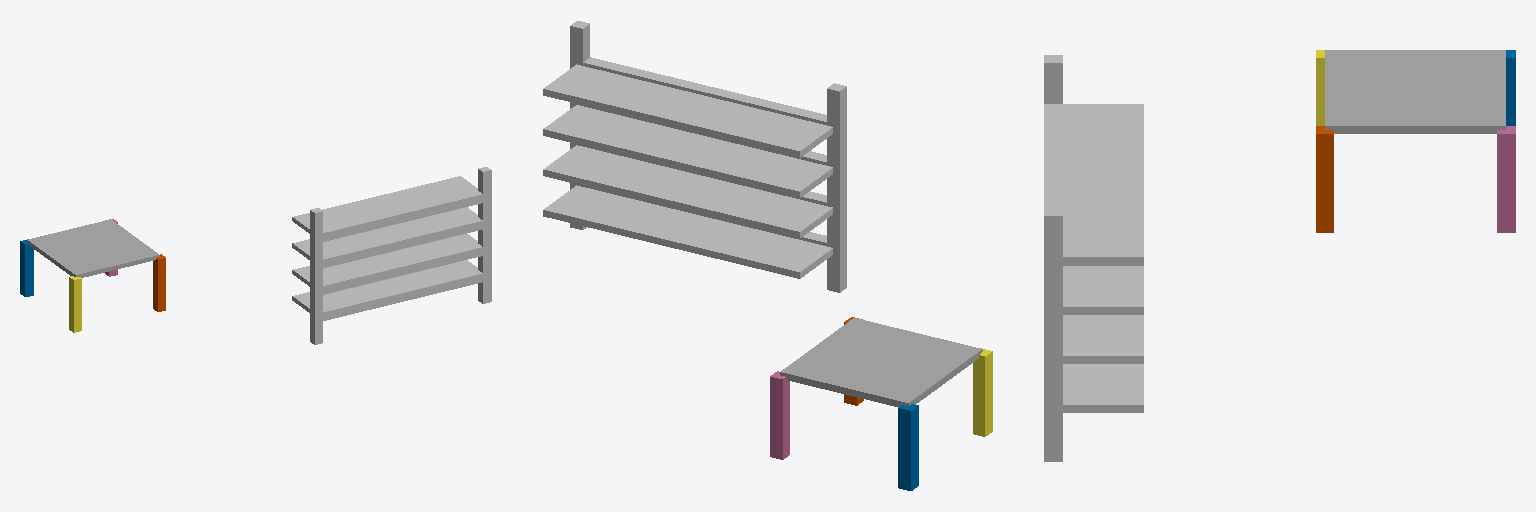
robot.urdf — shelve:
<?xml version="1.0"?>
<robot name="shelve">
    
    <material name="grey">
        <color rgba="0.8 0.8 0.8 1"/>
    </material>

    <link name="shelf_origin"/>

    <link name="left_leg">
        <visual>
            <material name="grey"/>
            <origin xyz="0 0 0.75"/>
            <geometry>
                <box size="0.1 0.1 1.5"/>
            </geometry>
        </visual>
        <collision>
            <origin xyz="0 0 0.75"/>
            <geometry>
                <box size="0.1 0.1 1.5"/>
            </geometry>
        </collision>
    </link>

    <link name="right_leg">
        <visual>
            <geometry>
                <box size="0.1 0.1 1.5"/>
            </geometry>
            <origin xyz="0 0 0.75"/>
            <material name="grey"/>

        </visual>
        <collision>
            <origin xyz="0 0 0.75"/>
            <geometry>
                <box size="0.1 0.1 1.5"/>
            </geometry>
        </collision>
    </link>

    <link name="bar0">
        <visual>
            <material name="grey"/>
            <origin xyz="-1 0 0"/>
            <geometry>
                <box size="2 0.1 0.1"/>
            </geometry>
        </visual>
        <collision>
            <origin xyz="-1 0 0"/>
            <geometry>
                <box size="2 0.1 0.1"/>
            </geometry>
        </collision>
    </link>

    <link name="board0">
        <visual>
            <material name="grey"/>
            <origin xyz="0 0.25 0"/>
            <geometry>
                <box size="2 0.5 0.05"/>
            </geometry>
        </visual>
        <collision>
            <origin xyz="0 0.25 0"/>
            <geometry>
                <box size="2 0.5 0.05"/>
            </geometry>
        </collision>
    </link>

    <link name="bar1">
        <visual>
            <material name="grey"/>
            <origin xyz="-1 0 0"/>
            <geometry>
                <box size="2 0.1 0.1"/>
            </geometry>
        </visual>
        <collision>
            <origin xyz="-1 0 0"/>
            <geometry>
                <box size="2 0.1 0.1"/>
            </geometry>
        </collision>
    </link>

    <link name="board1">
        <visual>
            <material name="grey"/>
            <origin xyz="0 0.25 0"/>
            <geometry>
                <box size="2 0.5 0.05"/>
            </geometry>
        </visual>
        <collision>
            <origin xyz="0 0.25 0"/>
            <geometry>
                <box size="2 0.5 0.05"/>
            </geometry>
        </collision>
    </link>

    <link name="bar2">
        <visual>
            <material name="grey"/>
            <origin xyz="-1 0 0"/>
            <geometry>
                <box size="2 0.1 0.1"/>
            </geometry>
        </visual>
        <collision>
            <origin xyz="-1 0 0"/>
            <geometry>
                <box size="2 0.1 0.1"/>
            </geometry>
        </collision>
    </link>

    <link name="board2">
        <visual>
            <material name="grey"/>
            <origin xyz="0 0.25 0"/>
            <geometry>
                <box size="2 0.5 0.05"/>
            </geometry>
        </visual>
        <collision>
            <origin xyz="0 0.25 0"/>
            <geometry>
                <box size="2 0.5 0.05"/>
            </geometry>
        </collision>
    </link>

    <link name="bar3">
        <visual>
            <material name="grey"/>
            <origin xyz="-1 0 0"/>
            <geometry>
                <box size="2 0.1 0.1"/>
            </geometry>
        </visual>
        <collision>
            <origin xyz="-1 0 0"/>
            <geometry>
                <box size="2 0.1 0.1"/>
            </geometry>
        </collision>
    </link>

    <link name="board3">
        <visual>
            <material name="grey"/>
            <origin xyz="0 0.25 0"/>
            <geometry>
                <box size="2 0.5 0.05"/>
            </geometry>
        </visual>
        <collision>
            <origin xyz="0 0.25 0"/>
            <geometry>
                <box size="2 0.5 0.05"/>
            </geometry>
        </collision>
    </link>
    
    
    <joint name="board0_to_bar0" type="fixed">
        <parent link="bar0"/>
        <child link="board0"/>
        <origin xyz="-1 0 0"/>
    </joint>

    <joint name="board1_to_bar1" type="fixed">
        <parent link="bar1"/>
        <child link="board1"/>
        <origin xyz="-1 0 0"/>
    </joint>

    <joint name="board2_to_bar2" type="fixed">
        <parent link="bar2"/>
        <child link="board2"/>
        <origin xyz="-1 0 0"/>
    </joint>

    <joint name="board3_to_bar3" type="fixed">
        <parent link="bar3"/>
        <child link="board3"/>
        <origin xyz="-1 0 0"/>
    </joint>



    <joint name="bar3_to_left_leg" type="fixed">
        <parent link="left_leg"/>
        <child link="bar3"/>
        <origin xyz="0 0 1.2"/>
    </joint>

    <joint name="bar2_to_left_leg" type="fixed">
        <parent link="left_leg"/>
        <child link="bar2"/>
        <origin xyz="0 0 0.9"/>
    </joint>

    <joint name="bar1_to_left_leg" type="fixed">
        <parent link="left_leg"/>
        <child link="bar1"/>
        <origin xyz="0 0 0.6"/>
    </joint>

    <joint name="bar0_to_left_leg" type="fixed">
        <parent link="left_leg"/>
        <child link="bar0"/>
        <origin xyz="0 0 0.3"/>
    </joint>
    
    <joint name="left_to_right_leg" type="fixed">
        <parent link="left_leg"/>
        <child link="right_leg"/>
        <origin xyz="-2 0 0"/>
    </joint>

    <joint name="left_leg_to_shelf_origin" type="fixed">
        <parent link="shelf_origin"/>
        <child link="left_leg"/>
        <origin xyz="0 -1.5 0"/>
    </joint>



    <link name="left_front_leg">
        <collision>
            <origin xyz="0 0 0.3"/>
            <geometry>
                <box size="0.1 0.1 0.6"/>
            </geometry>
        </collision>
        <visual>
            <origin xyz="0 0 0.3"/>
            <geometry>
                <box size="0.1 0.1 0.6"/>
            </geometry>
        </visual>
    </link>
    

    <link name="right_front_leg">
        <collision>
            <origin xyz="0 0 0.3"/>
            <geometry>
                <box size="0.1 0.1 0.6"/>
            </geometry>
        </collision>
        <visual>
            <origin xyz="0 0 0.3"/>
            <geometry>
                <box size="0.1 0.1 0.6"/>
            </geometry>
        </visual>
    </link>


    <link name="left_back_leg">
        <collision>
            <origin xyz="0 0 0.3"/>
            <geometry>
                <box size="0.1 0.1 0.6"/>
            </geometry>
        </collision>
        <visual>
            <origin xyz="0 0 0.3"/>
            <geometry>
                <box size="0.1 0.1 0.6"/>
            </geometry>
        </visual>
    </link>


    <link name="right_back_leg">
        <collision>
            <origin xyz="0 0 0.3"/>
            <geometry>
                <box size="0.1 0.1 0.6"/>
            </geometry>
        </collision>
        <visual>
            <origin xyz="0 0 0.3"/>
            <geometry>
                <box size="0.1 0.1 0.6"/>
            </geometry>
        </visual>
    </link>


    <link name="top">
        <collision>
            <geometry>
                <box size="1 1 0.05"/>
            </geometry>
        </collision>
        <visual>
            <geometry>
                <box size="1 1 0.05"/>
            </geometry>
        </visual>
    </link>
    

    <joint name="origin_to_left_front_leg" type="fixed">
        <parent link="shelf_origin"/>
        <child link="left_front_leg"/>
        <origin xyz="-4 0 0"/>
    </joint>

    <joint name="left_front_to_back" type="fixed">
        <parent link="left_front_leg"/>
        <child link="left_back_leg"/>
        <origin xyz="1 0 0"/>
    </joint>

    <joint name="left_front_to_right_front" type="fixed">
        <parent link="left_front_leg"/>
        <child link="right_front_leg"/>
        <origin xyz="0 1 0"/>
    </joint>

    <joint name="left_front_to_right_back" type="fixed">
        <parent link="left_front_leg"/>
        <child link="right_back_leg"/>
        <origin xyz="1 1 0"/>
    </joint>

    <joint name="left_front_leg_to_top" type="fixed">
        <parent link="left_front_leg"/>
        <child link="top"/>
        <origin xyz="0.5 0.5 0.6"/>
    </joint>


</robot>

--- Render facts (derived) ---
The picture shows the robot from 3 angles, left to right: view 1: azimuth 30°, elevation 25°; view 2: azimuth 150°, elevation 25°; view 3: azimuth 270°, elevation 25°; orthographic projection.
Model shelve with 16 links and 15 joints (15 fixed), rooted at shelf_origin, posed every joint at zero.
Links seen in each view (by area): view 1: top, board3, bar0, bar1, bar3, bar2, board1, board0, board2, right_leg, left_leg, right_front_leg (+2 smaller); view 2: top, board0, board3, board1, board2, right_leg, bar3, right_front_leg, right_back_leg, left_front_leg, left_leg; view 3: top, board3, left_leg, board0, board1, board2, right_back_leg, bar3, left_back_leg, right_leg, right_front_leg, left_front_leg.
Link boxes in pixels (x1=…): top: x1=27, y1=219, x2=159, y2=277; board3: x1=292, y1=176, x2=477, y2=233; bar0: x1=319, y1=270, x2=486, y2=321; bar1: x1=319, y1=244, x2=486, y2=295; bar3: x1=319, y1=191, x2=486, y2=242; bar2: x1=319, y1=217, x2=486, y2=268; board1: x1=292, y1=234, x2=477, y2=286; board0: x1=292, y1=260, x2=477, y2=312; board2: x1=292, y1=207, x2=477, y2=259; right_leg: x1=310, y1=208, x2=322, y2=344; left_leg: x1=478, y1=167, x2=491, y2=303; right_front_leg: x1=20, y1=239, x2=33, y2=296; top: x1=780, y1=318, x2=982, y2=407; board0: x1=543, y1=185, x2=832, y2=278; board3: x1=543, y1=64, x2=832, y2=157; board1: x1=543, y1=145, x2=832, y2=238; board2: x1=543, y1=105, x2=832, y2=197; right_leg: x1=827, y1=83, x2=846, y2=292; bar3: x1=583, y1=57, x2=832, y2=134; right_front_leg: x1=898, y1=404, x2=918, y2=490; right_back_leg: x1=770, y1=371, x2=789, y2=459; left_front_leg: x1=973, y1=348, x2=992, y2=436; left_leg: x1=570, y1=21, x2=589, y2=229; top: x1=1325, y1=50, x2=1505, y2=133; board3: x1=1063, y1=104, x2=1143, y2=265; left_leg: x1=1044, y1=208, x2=1062, y2=461; board0: x1=1063, y1=364, x2=1143, y2=412; board1: x1=1063, y1=315, x2=1143, y2=363; board2: x1=1063, y1=266, x2=1143, y2=314; right_back_leg: x1=1497, y1=126, x2=1515, y2=232; bar3: x1=1044, y1=104, x2=1062, y2=207; left_back_leg: x1=1316, y1=126, x2=1333, y2=232; right_leg: x1=1044, y1=55, x2=1062, y2=103; right_front_leg: x1=1506, y1=50, x2=1515, y2=125; left_front_leg: x1=1316, y1=50, x2=1324, y2=125.
Size in the robot's own frame: 4.1 by 2.6 by 1.5 metres.
Geometry: primitives only (box / cylinder / sphere), no mesh files.